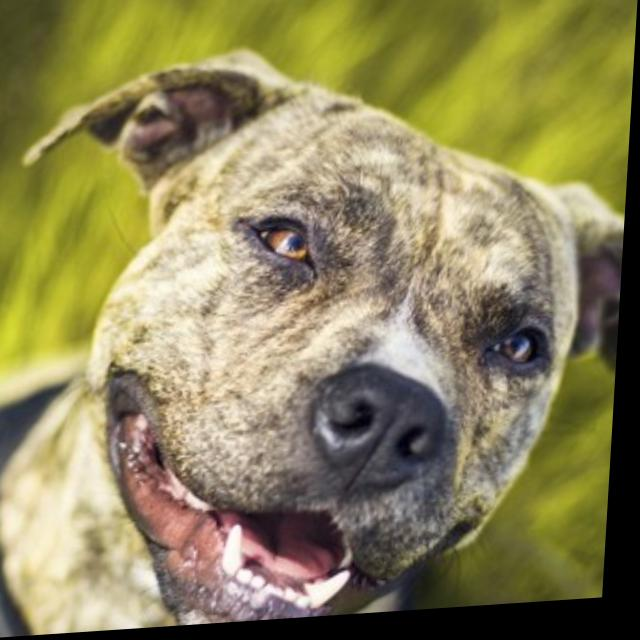am_pit_bull_terrier: (1, 29, 638, 640)
